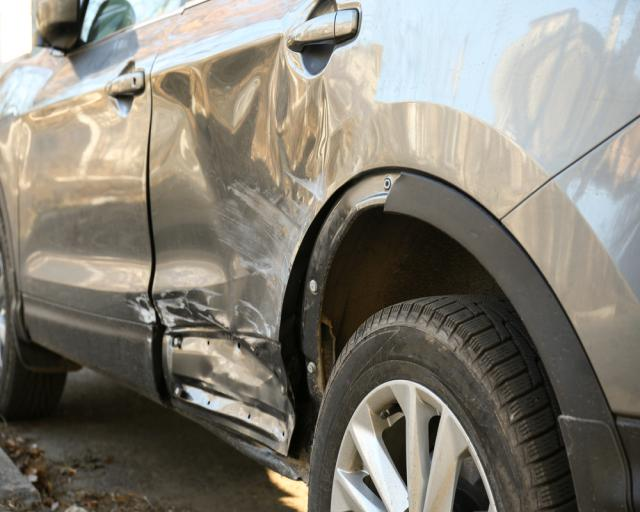dent: (158, 38, 366, 436)
